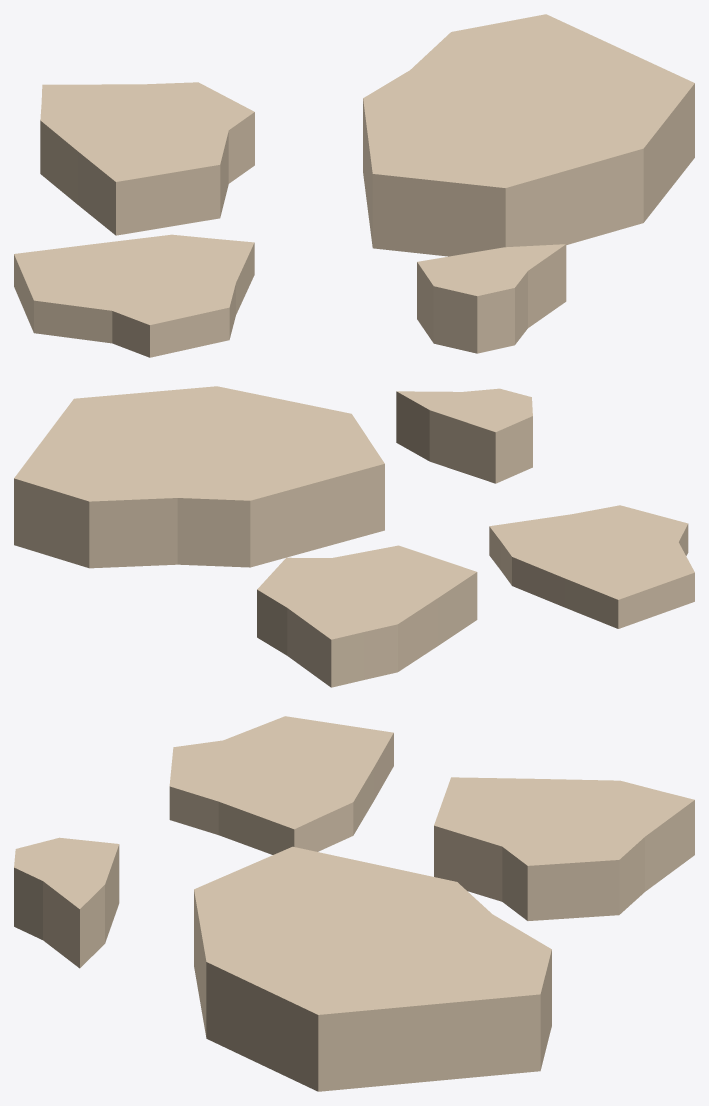
Rendered from stone_12.fbx.
3 views of the same model, one above another, from view 1: azimuth 30°, elevation 25°; view 2: azimuth 150°, elevation 25°; view 3: azimuth 270°, elevation 25° (orthographic). The views are drawn at different scales.
Visible parts, largest first — view 1: stone_12; view 2: stone_12; view 3: stone_12.
Boxes of the visible parts, x1=… form: stone_12: x1=14, y1=14, x2=694, y2=357; stone_12: x1=14, y1=386, x2=694, y2=687; stone_12: x1=14, y1=716, x2=694, y2=1091.
Bounding box in the file's own units: 254 × 26.67 × 214.
